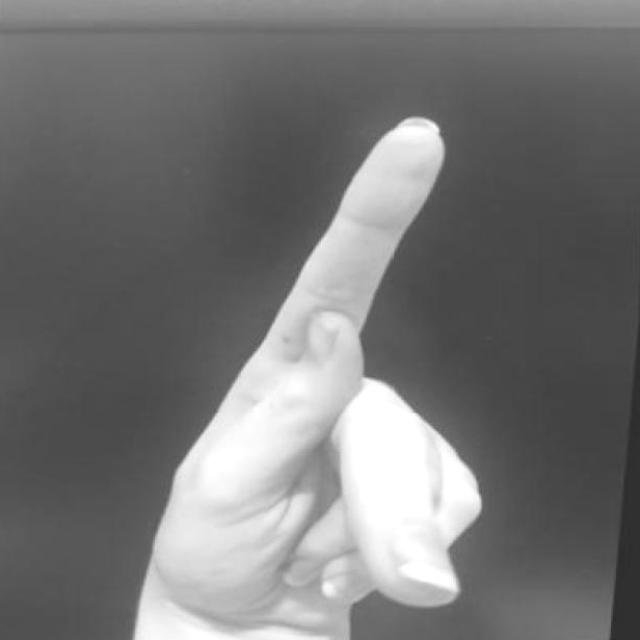P: (100, 110, 576, 640)
